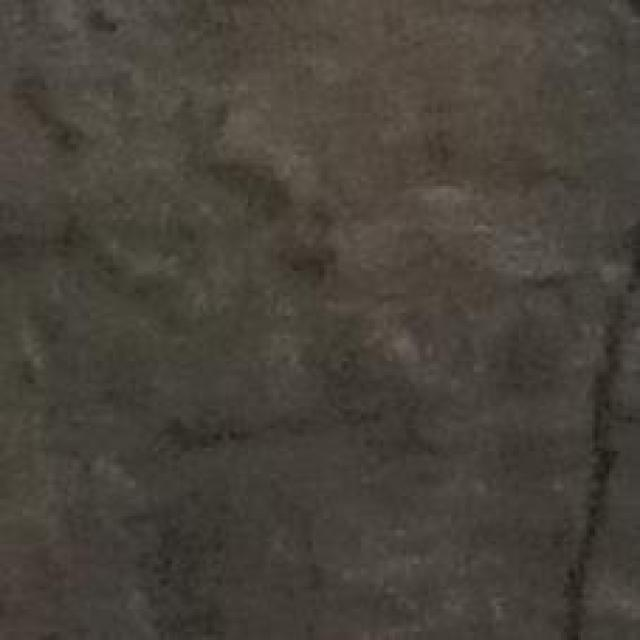Crack: (544, 210, 640, 640)
